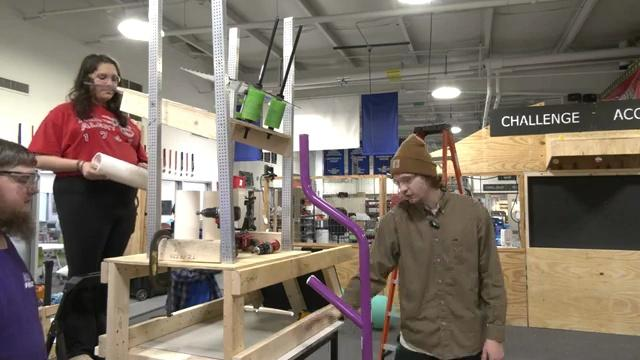CORAL: (88, 150, 148, 190), (176, 189, 200, 239), (203, 191, 220, 241)
